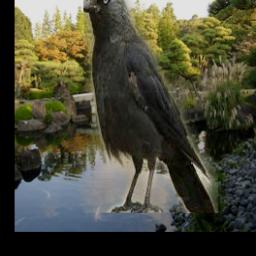Crow: (82, 0, 217, 214)
